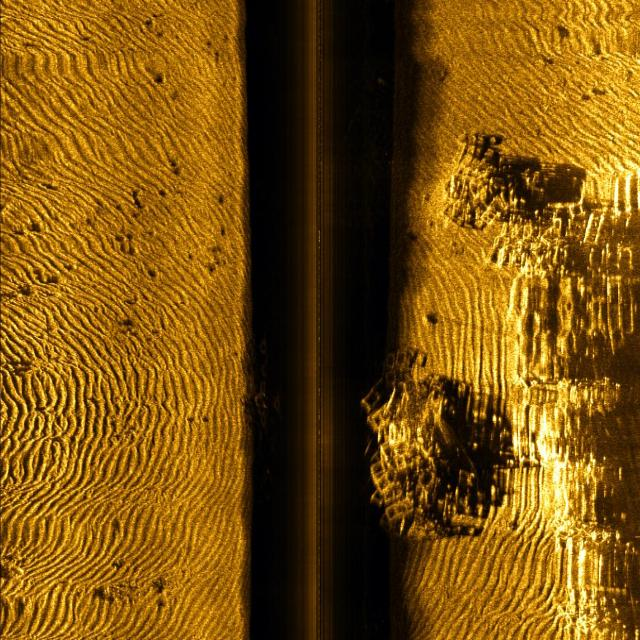artificial reef: (361, 341, 482, 552), (442, 135, 584, 277), (248, 331, 293, 462)
